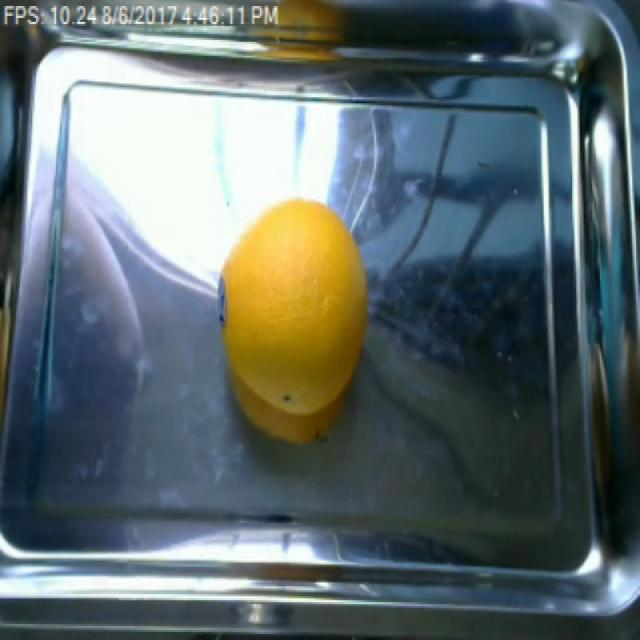Fruit: (215, 191, 372, 445)
